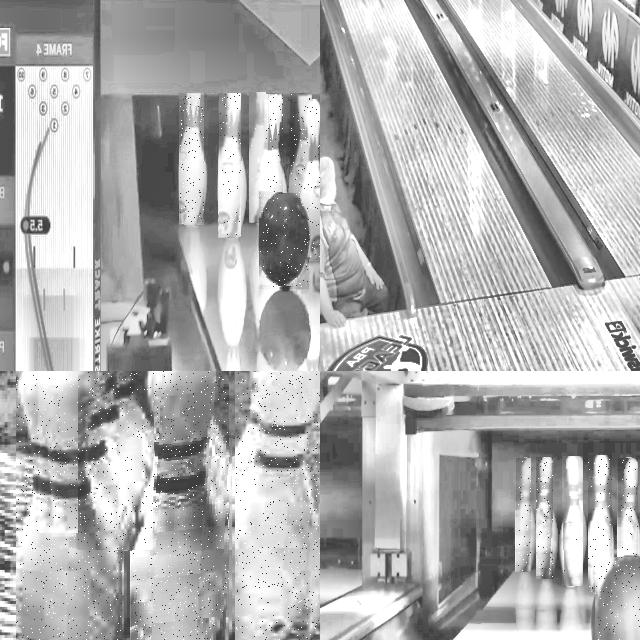bowling-ball: (260, 193, 309, 287), (595, 558, 640, 640)
bowling-pins: (16, 371, 122, 640), (132, 371, 228, 640), (236, 371, 320, 640), (76, 371, 116, 533), (116, 371, 151, 550), (588, 456, 612, 590), (300, 100, 320, 259), (180, 94, 204, 225), (220, 94, 240, 236), (562, 457, 583, 585), (263, 95, 283, 209), (291, 93, 312, 199), (249, 93, 266, 220), (536, 457, 553, 577), (620, 458, 637, 557), (518, 459, 530, 572)
